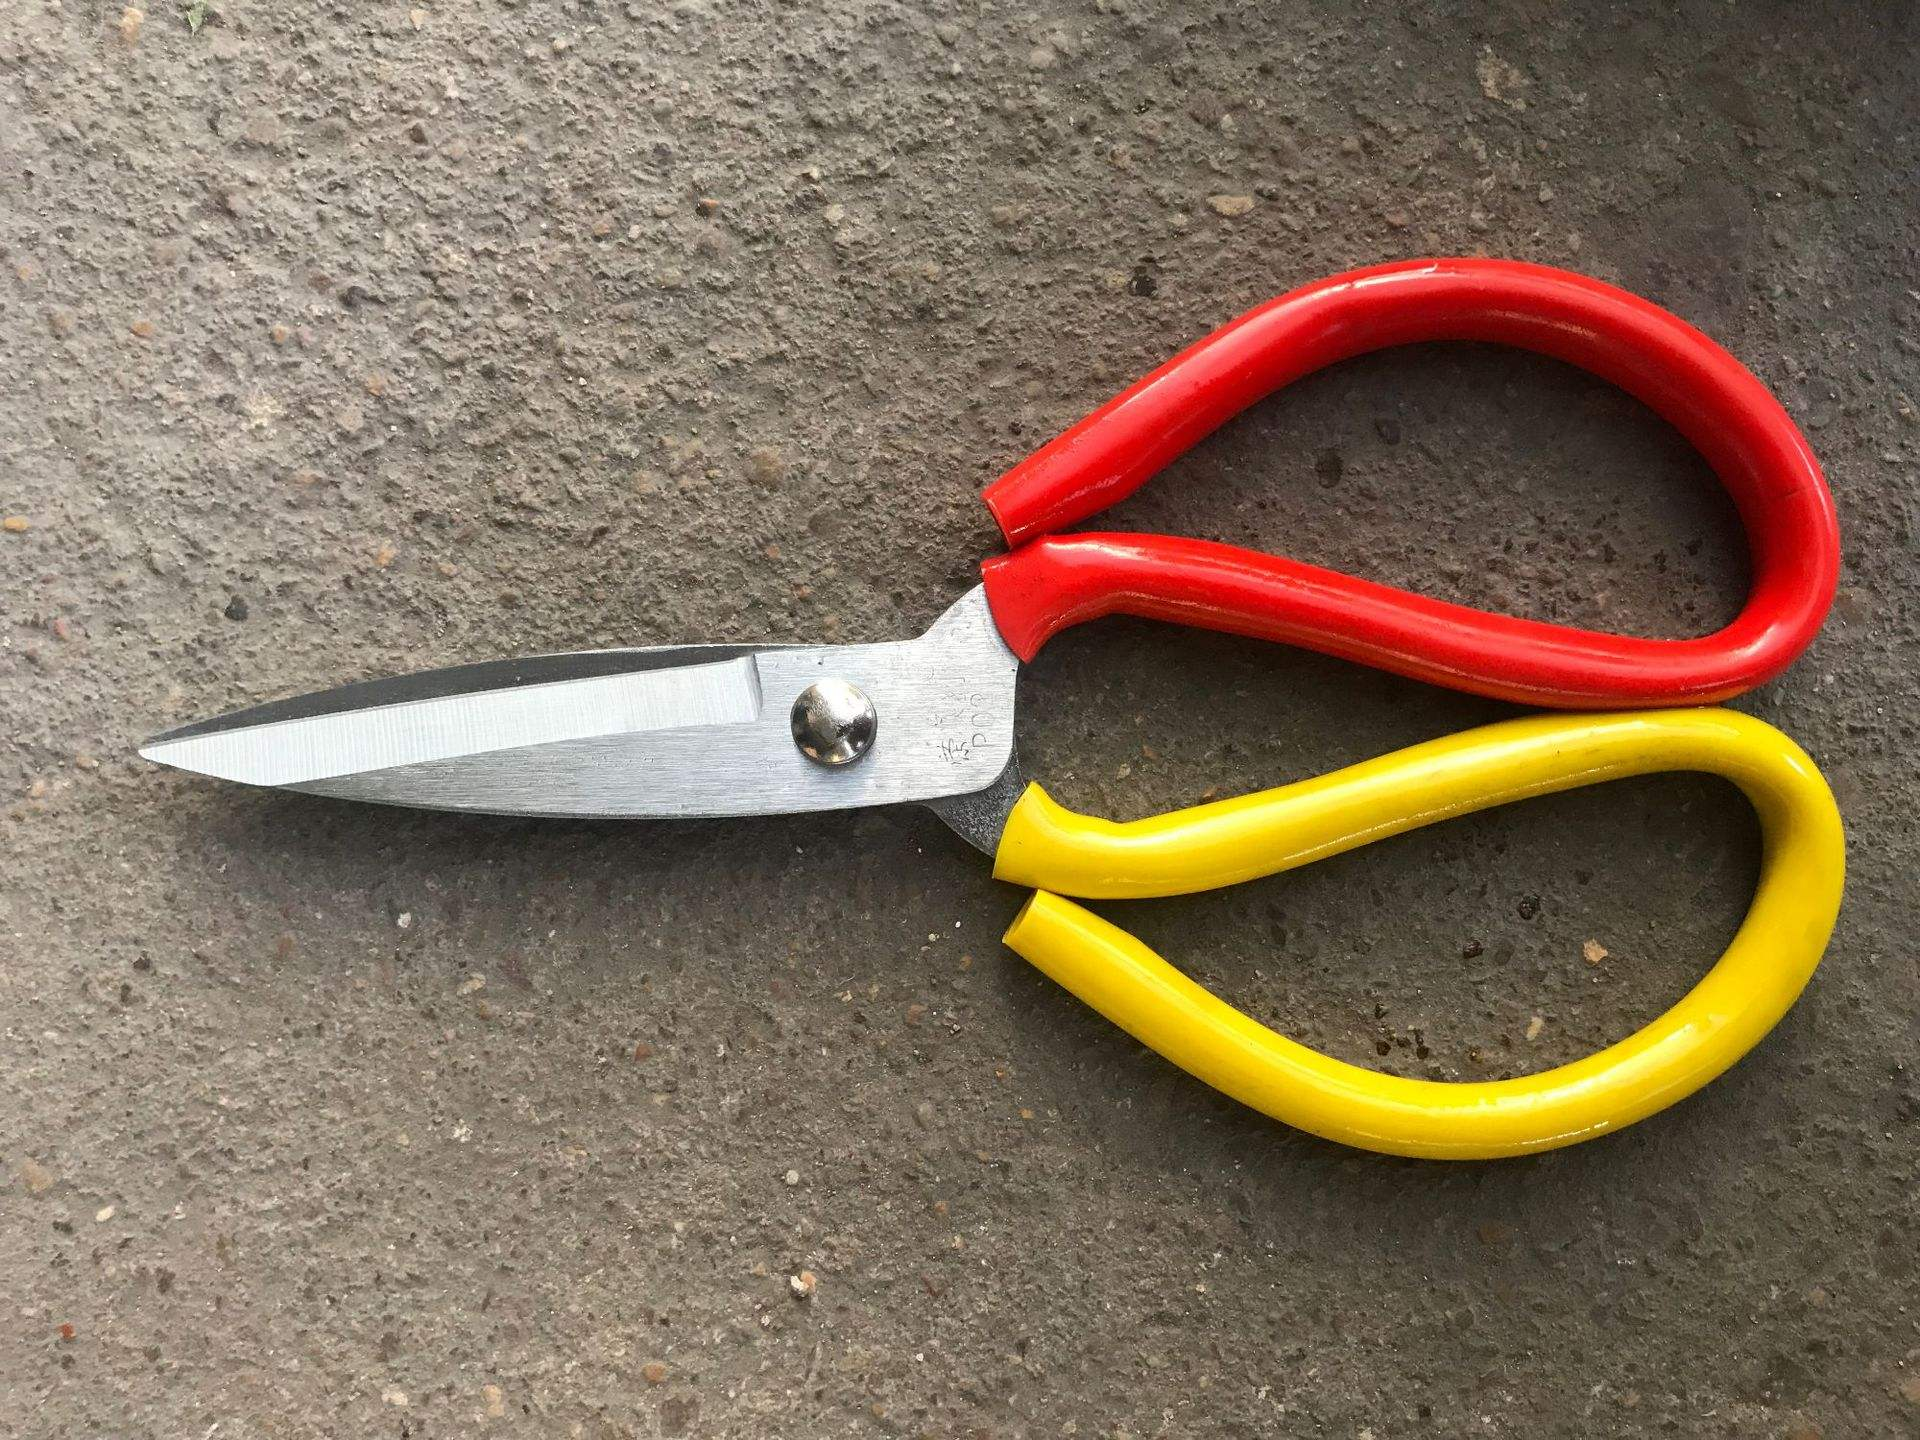scissor: (135, 253, 1845, 1159)
